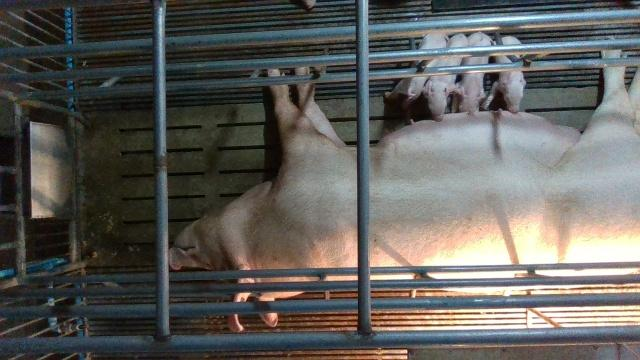piglet: (384, 33, 448, 109), (422, 33, 468, 122), (483, 36, 527, 112), (456, 32, 495, 112)
sow-sleep-lactate: (169, 37, 640, 331)
